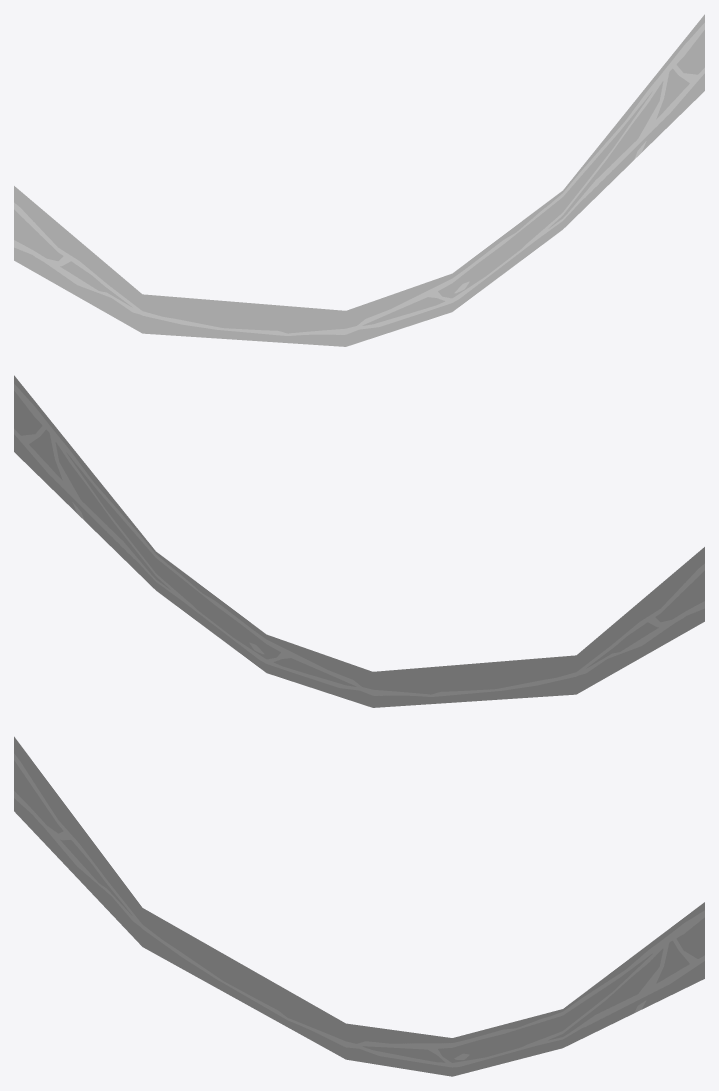
File: SM_Env_SpiderWeb_05.fbx
3 views of the same model, one above another, from view 1: azimuth 30°, elevation 25°; view 2: azimuth 150°, elevation 25°; view 3: azimuth 330°, elevation 25° (orthographic).
Visible parts, largest first — view 1: SM_Env_SpiderWeb_05_Outline, SM_Env_SpiderWeb_05; view 2: SM_Env_SpiderWeb_05_Outline, SM_Env_SpiderWeb_05; view 3: SM_Env_SpiderWeb_05_Outline, SM_Env_SpiderWeb_05.
Part boxes in pixels (x1,y1,x2,y2): SM_Env_SpiderWeb_05_Outline: (14,14,704,346); SM_Env_SpiderWeb_05: (14,22,704,335); SM_Env_SpiderWeb_05_Outline: (14,375,704,707); SM_Env_SpiderWeb_05: (14,383,704,696); SM_Env_SpiderWeb_05_Outline: (14,736,704,1076); SM_Env_SpiderWeb_05: (14,753,704,1067).
Size of the model in its own units: 629 by 213 by 1.61e-05.
